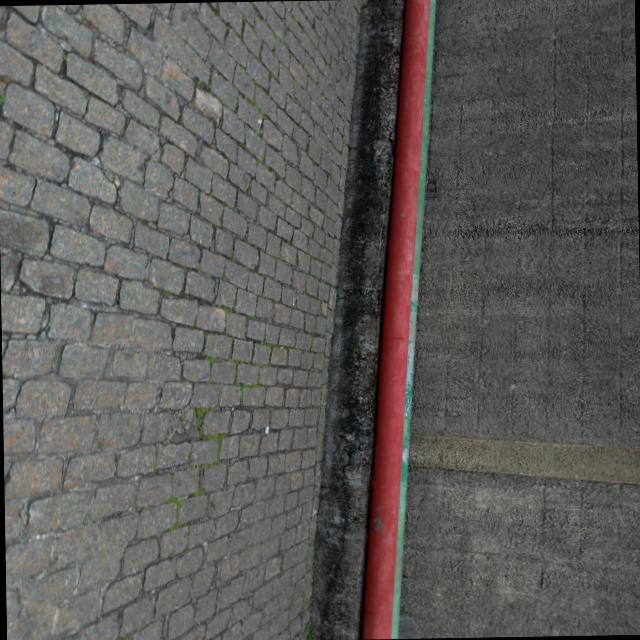gas: (360, 0, 428, 639)
